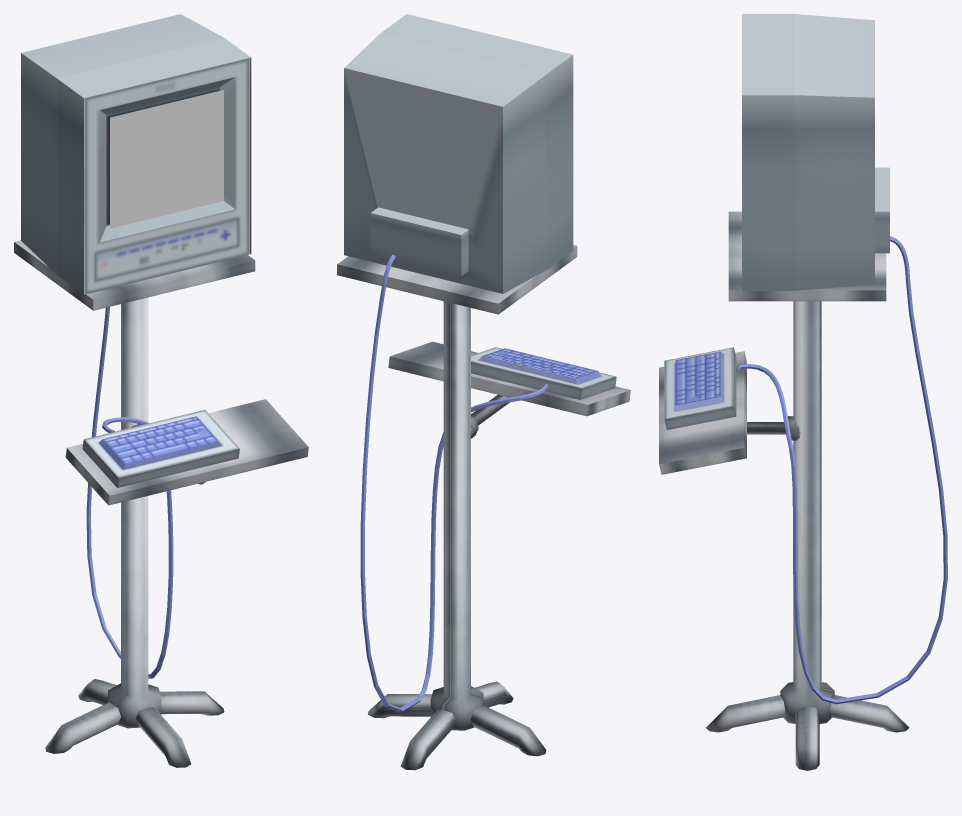
The model's file is Hospital_MonitorStand.fbx.
The picture shows the model from 3 angles, left to right: view 1: azimuth 30°, elevation 25°; view 2: azimuth 150°, elevation 25°; view 3: azimuth 270°, elevation 25°; orthographic projection.
Visible parts, largest first — view 1: Monitor; view 2: Monitor; view 3: Monitor.
Boxes of the visible parts, x1,y1,x2,y2 form: Monitor: (14, 14, 308, 767); Monitor: (337, 14, 630, 770); Monitor: (659, 14, 947, 770).
Bounding box in the file's own units: 49.41 × 166 × 61.54.
Materials: 2 (1 with a texture image).
